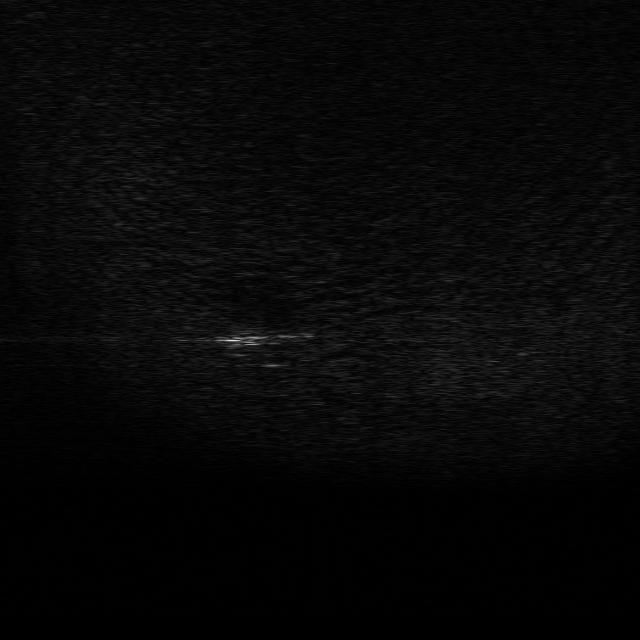plane: (216, 324, 315, 372)
